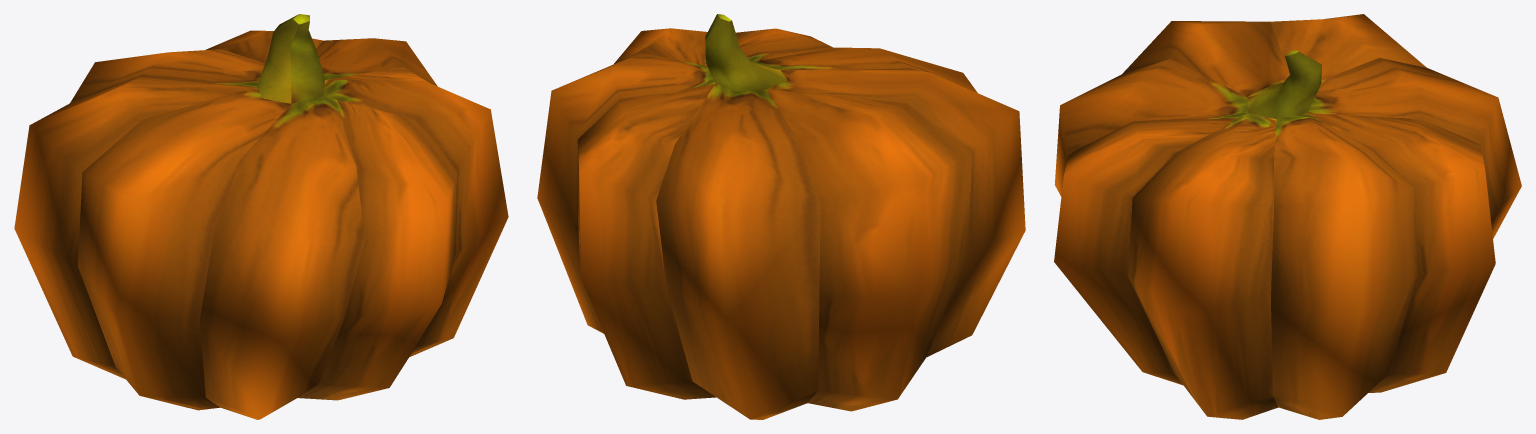
The model's file is ruraltown_pumpking_big_01.fbx.
3 views of the same model, side by side, from view 1: azimuth 30°, elevation 25°; view 2: azimuth 150°, elevation 25°; view 3: azimuth 270°, elevation 25° (orthographic).
Visible parts, largest first — view 1: ruraltown_pumpking_big_01; view 2: ruraltown_pumpking_big_01; view 3: ruraltown_pumpking_big_01.
Boxes of the visible parts, box(x1,y1,x2,y2) form: ruraltown_pumpking_big_01: box(14, 14, 508, 419); ruraltown_pumpking_big_01: box(537, 14, 1025, 419); ruraltown_pumpking_big_01: box(1054, 14, 1521, 419).
Size of the model in its own units: 1.01 by 0.8547 by 1.05.
